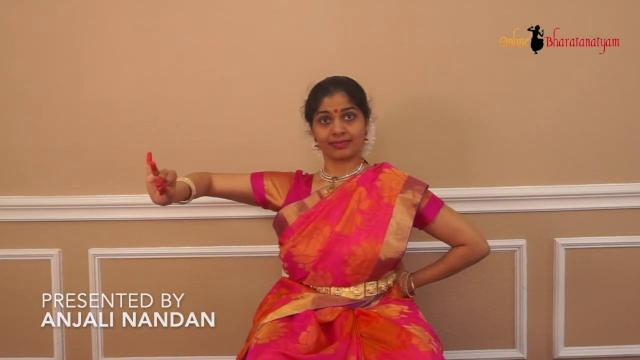bhramara: (129, 141, 193, 211)
